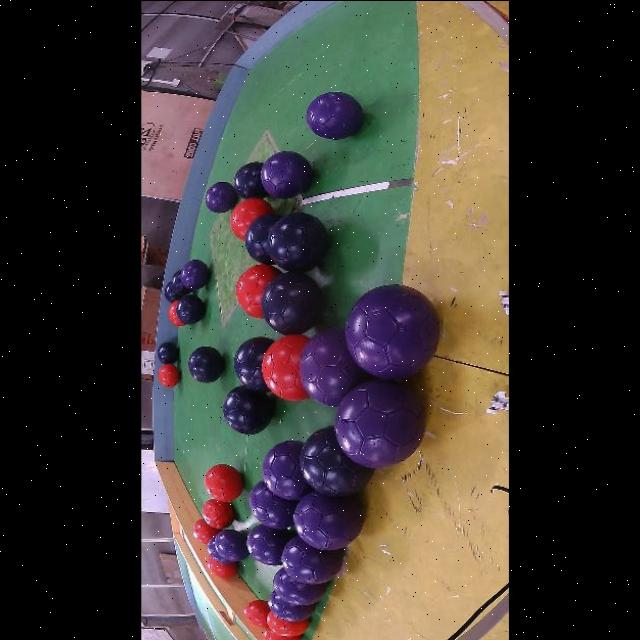B: (300, 425, 373, 496), (261, 272, 323, 335), (268, 212, 329, 271), (223, 384, 274, 433), (233, 336, 274, 392), (245, 213, 281, 264), (233, 161, 269, 198), (189, 345, 224, 382), (176, 294, 205, 323), (171, 269, 192, 295), (158, 341, 178, 363), (164, 281, 182, 301)
P: (346, 283, 440, 378), (334, 379, 426, 467), (300, 327, 373, 405), (293, 490, 364, 549), (282, 535, 343, 584), (263, 439, 311, 499), (306, 90, 364, 139), (249, 479, 298, 529), (261, 151, 313, 198), (273, 567, 328, 604), (247, 524, 296, 565), (268, 590, 316, 621), (214, 529, 250, 561), (205, 181, 237, 212), (181, 259, 210, 289), (208, 535, 233, 563)
R: (261, 333, 310, 400), (236, 263, 281, 318), (231, 197, 274, 240), (204, 464, 244, 501), (267, 611, 308, 636), (203, 498, 235, 528), (192, 519, 221, 544), (207, 554, 238, 577), (244, 599, 270, 626), (158, 363, 180, 387), (168, 299, 186, 326), (264, 627, 300, 640)
